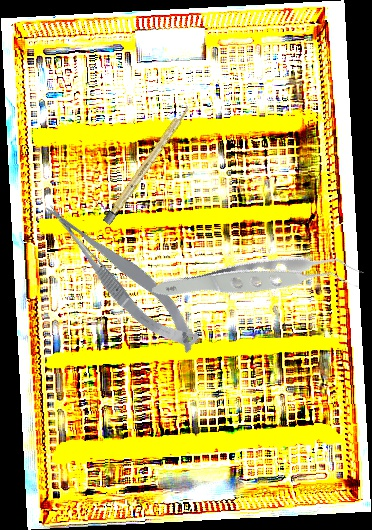Micro Scissor: (37, 182, 208, 369)
Scalpel Handle: (102, 103, 192, 226)
Tissue Forceps: (150, 193, 368, 372)
